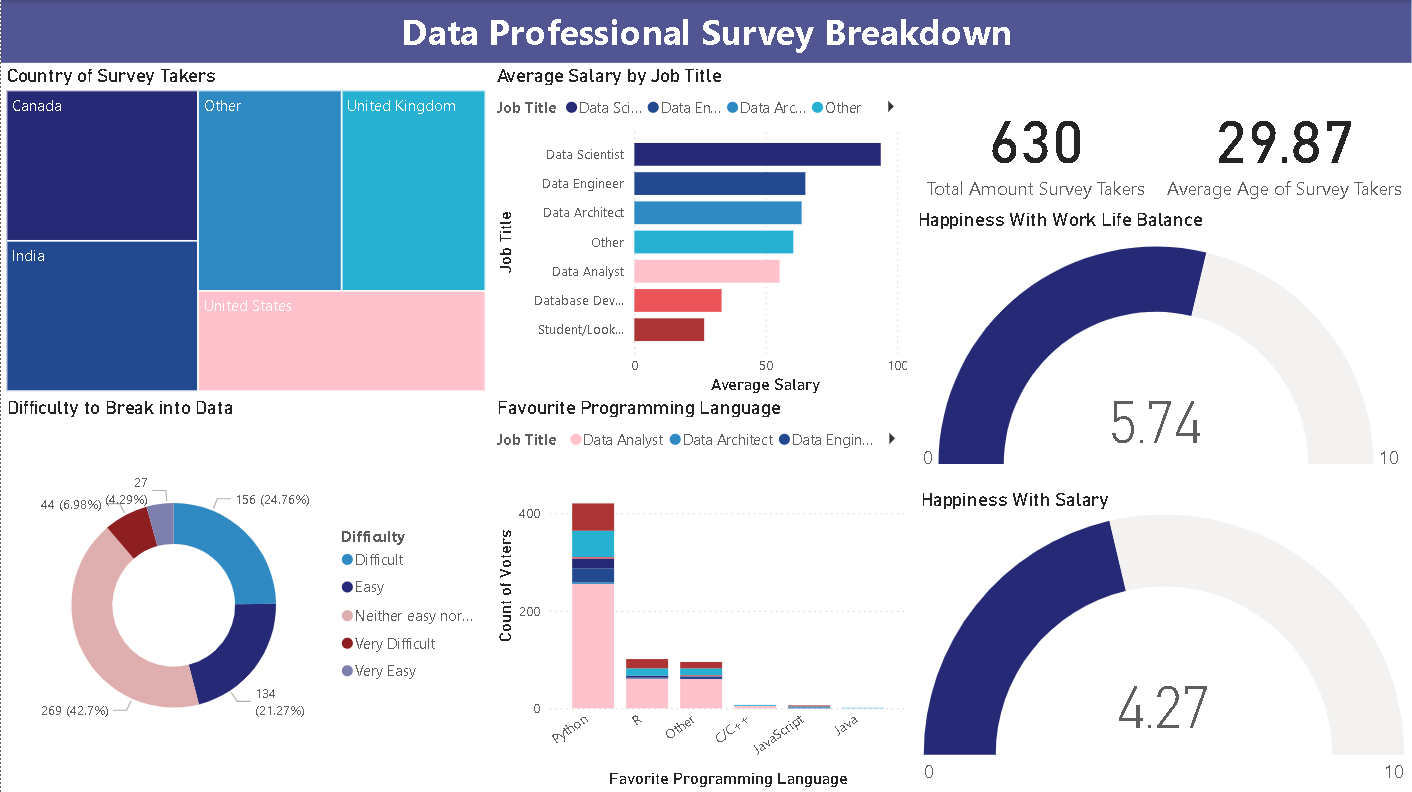

The dashboard page shown, as its layout file describes it:
{"tool":"powerbi","page":{"name":"Page 1","canvas":[1280,720],"ordinal":0},"visuals":[{"type":"textbox","box":[0,0,1280,57.4],"z":0},{"type":"card","fields":{"Values":["Count(Data Professional Survey.Unique ID)"]},"box":[828.7,57.4,219.8,149.8],"z":1},{"type":"card","fields":{"Values":["Avg(Data Professional Survey.Q10 - Current Age)"]},"box":[1048.5,57.4,231.5,149.8],"z":2},{"type":"barChart","title":"Average Salary by Job Title","fields":{"Category":["Data Professional Survey.Q1 - Which Title Best Fits your Current Role?.1"],"Y":["Avg(Data Professional Survey.Average Salary)"],"Series":["Data Professional Survey.Q1 - Which Title Best Fits your Current Role?.1"]},"box":[444.2,57.9,382.2,303.7],"z":3},{"type":"columnChart","title":"Favourite Programming Language","fields":{"Category":["Data Professional Survey.Q5 - Favorite Programming Language.1"],"Y":["CountNonNull(Data Professional Survey.Unique ID)"],"Series":["Data Professional Survey.Q1 - Which Title Best Fits your Current Role?.1"]},"box":[444.2,359.5,382.2,360.5],"z":4},{"type":"treemap","title":"Country of Survey Takers","fields":{"Values":["Count(Data Professional Survey.Q11 - Which Country do you live in?.1)"],"Group":["Data Professional Survey.Q11 - Which Country do you live in?.1"]},"box":[0,57.9,444.2,301.7],"z":5},{"type":"gauge","title":"Happiness With Work Life Balance","fields":{"Y":["Avg(Data Professional Survey.Q6 - How Happy are you in your Current Position with the following? (Work/Life Balance))"],"MinValue":["Min(Data Professional Survey.Q6 - How Happy are you in your Current Position with the following? (Work/Life Balance))"],"MaxValue":["Max(Data Professional Survey.Q6 - How Happy are you in your Current Position with the following? (Work/Life Balance))1"]},"box":[826,189.1,451.5,253.1],"z":6},{"type":"gauge","title":"Happiness With Salary","fields":{"Y":["Avg(Data Professional Survey.Q6 - How Happy are you in your Current Position with the following? (Salary))"],"MinValue":["Min(Data Professional Survey.Q6 - How Happy are you in your Current Position with the following? (Salary))"],"MaxValue":["Max(Data Professional Survey.Q6 - How Happy are you in your Current Position with the following? (Salary))"]},"box":[828.5,442.2,451.5,277.9],"z":7},{"type":"donutChart","title":"Difficulty to Break into Data","fields":{"Y":["CountNonNull(Data Professional Survey.Q7 - How difficult was it for you to break into Data?)"],"Series":["Data Professional Survey.Q7 - How difficult was it for you to break into Data?"]},"box":[0,359.5,444.2,360.5],"z":8}]}

Visuals, with their boxes in screenshot pixels (x1, y1, x2, y2), scaled from the page's 1280x720 canvas onto the 1412x792 screenshot:
textbox: {"x1": 0, "y1": 0, "x2": 1411, "y2": 63}
card - Count(Data Professional Survey.Unique ID): {"x1": 914, "y1": 63, "x2": 1157, "y2": 228}
card - Avg(Data Professional Survey.Q10 - Current Age): {"x1": 1157, "y1": 63, "x2": 1411, "y2": 228}
"Average Salary by Job Title" barChart: {"x1": 490, "y1": 64, "x2": 912, "y2": 398}
"Favourite Programming Language" columnChart: {"x1": 490, "y1": 395, "x2": 912, "y2": 791}
"Country of Survey Takers" treemap: {"x1": 0, "y1": 64, "x2": 490, "y2": 396}
"Happiness With Work Life Balance" gauge: {"x1": 911, "y1": 208, "x2": 1409, "y2": 486}
"Happiness With Salary" gauge: {"x1": 914, "y1": 486, "x2": 1411, "y2": 791}
"Difficulty to Break into Data" donutChart: {"x1": 0, "y1": 395, "x2": 490, "y2": 791}
